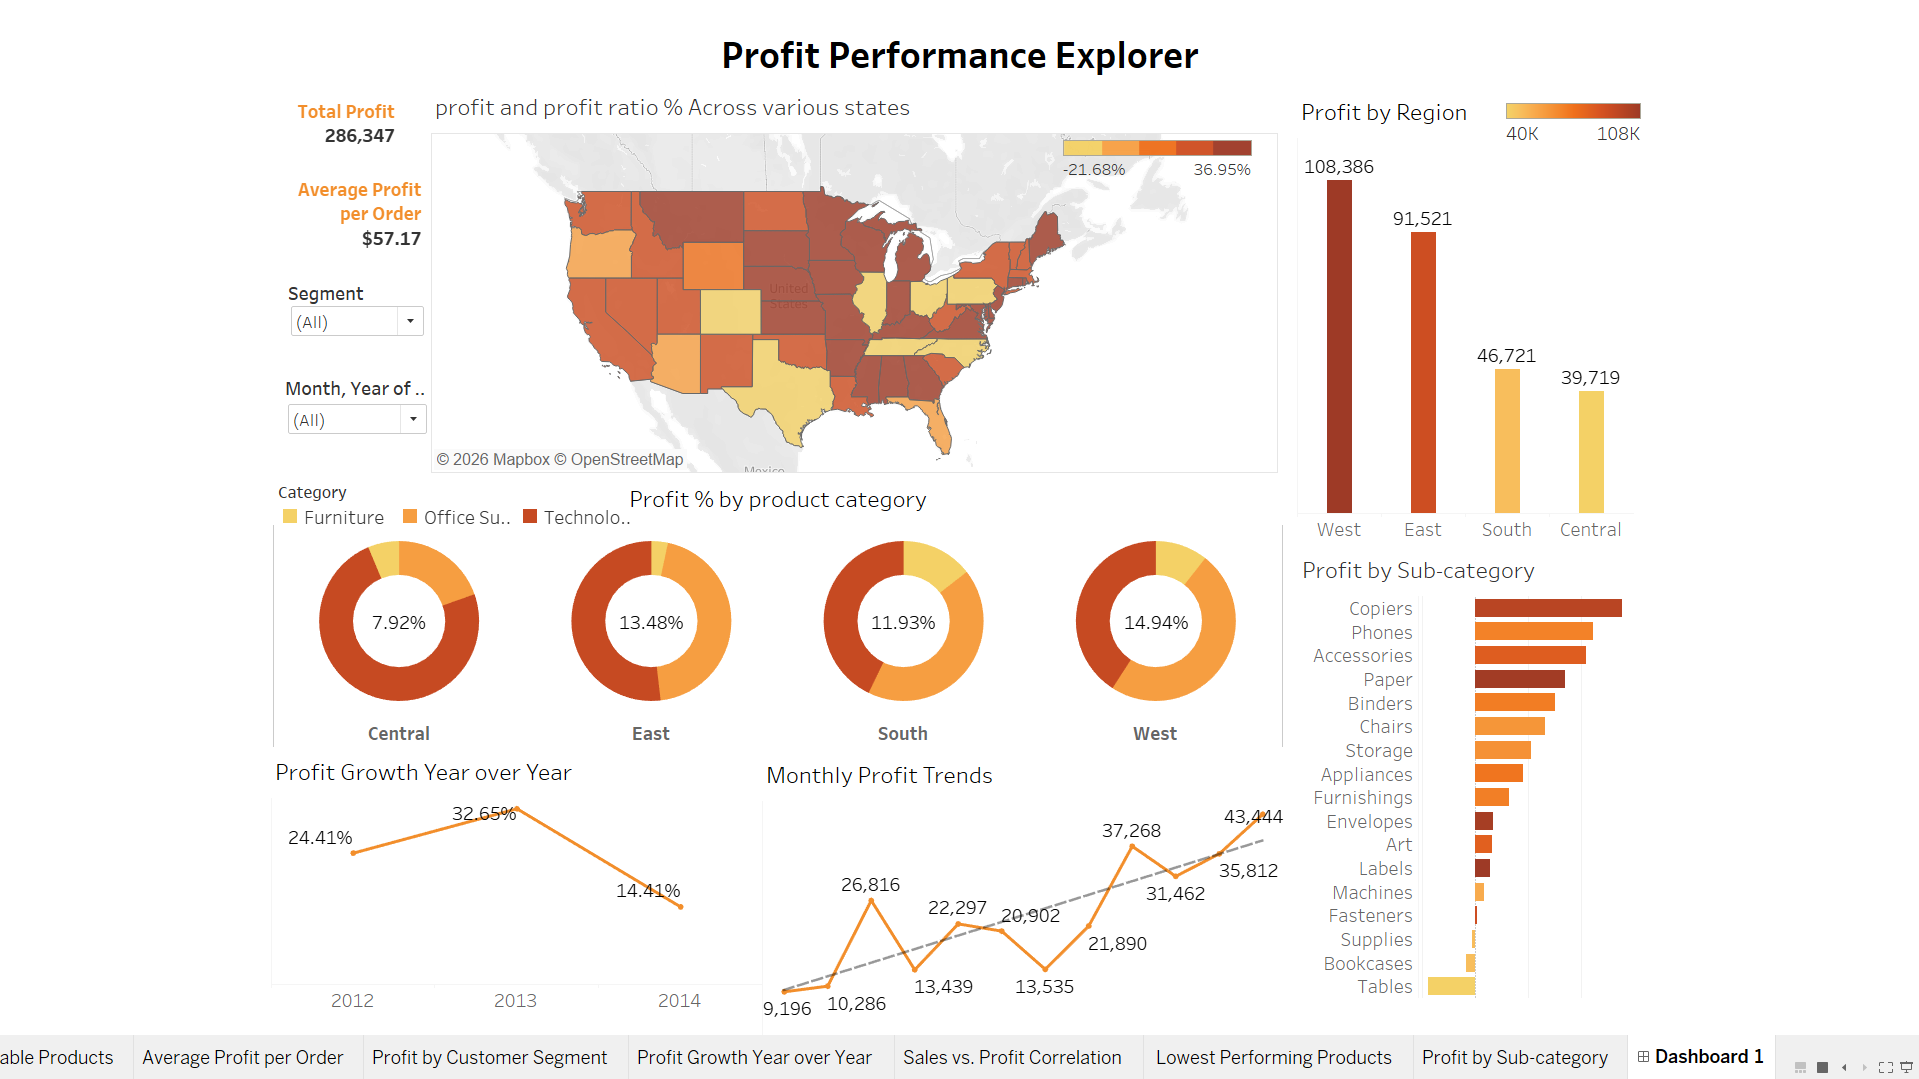

Layout of this report page (visuals, bound fields, positions):
{"tool":"tableau","page":{"name":"Dashboard 1","canvas":[1400,1000],"ordinal":0},"visuals":[{"type":"title","box":[8,8,1384,57]},{"type":"worksheet","title":"profit and profit ratio % Across various states","mark":"Automatic","box":[171,70,847,386]},{"type":"worksheet","title":"Profit by Region","mark":"Automatic","rows":["Profit"],"cols":["Region"],"box":[1037,75,337,450]},{"type":"worksheet","title":"Total profit","mark":"Automatic","box":[19.2,81,168,78]},{"type":"legend","title":"Profit by Region","param":"[federated.0scsd8k1lnhbb6143n81d1bk4msk].[sum:Profit:qk]","box":[1242,82,143,47]},{"type":"legend","title":"profit and profit ratio % Across various states","param":"[federated.0scsd8k1lnhbb6143n81d1bk4msk].[usr:Calculation_3756283578475462662:qk","box":[799,119,197,50]},{"type":"worksheet","title":"Average Profit per Order","mark":"Automatic","box":[9.6,132,154.9,129]},{"type":"filter","title":"Profit % by product category","param":"[federated.0scsd8k1lnhbb6143n81d1bk4msk].[none:Segment:nk]","box":[28,263,139.1,57]},{"type":"filter","title":"Profit % by product category","param":"[federated.0scsd8k1lnhbb6143n81d1bk4msk].[my:Order Date:ok]","box":[24.5,358,145.2,71]},{"type":"worksheet","title":"Profit % by product category","mark":"Pie","rows":["Calculation_3756283578473844737","Calculation_3756283578473889795"],"cols":["Region"],"box":[13,462,1010,269]},{"type":"legend","title":"Profit % by product category","param":"[federated.0scsd8k1lnhbb6143n81d1bk4msk].[none:Category:nk]","box":[18.4,464,484.8,82]},{"type":"worksheet","title":"Profit by Sub-category","mark":"Automatic","rows":["Sub-Category"],"cols":["Profit"],"box":[1038,533,334,448]},{"type":"worksheet","title":"Profit Growth Year over Year","mark":"Line","rows":["Calculation_3756283578525282312"],"cols":["Order Date"],"box":[11,735,491,261]}]}

Visuals, with their boxes on the page's 1400x1000 design canvas (x1, y1, x2, y2). These are canvas units, not pixel positions in the 1919x1079 screenshot, which may show the page scaled, cropped or inside an application window:
title: rect(8, 8, 1392, 65)
"profit and profit ratio % Across various states" worksheet: rect(171, 70, 1018, 456)
"Profit by Region" worksheet: rect(1037, 75, 1374, 525)
"Total profit" worksheet: rect(19, 81, 187, 159)
"Profit by Region" legend: rect(1242, 82, 1385, 129)
"profit and profit ratio % Across various states" legend: rect(799, 119, 996, 169)
"Average Profit per Order" worksheet: rect(10, 132, 164, 261)
"Profit % by product category" filter: rect(28, 263, 167, 320)
"Profit % by product category" filter: rect(24, 358, 170, 429)
"Profit % by product category" worksheet (Pie marks): rect(13, 462, 1023, 731)
"Profit % by product category" legend: rect(18, 464, 503, 546)
"Profit by Sub-category" worksheet: rect(1038, 533, 1372, 981)
"Profit Growth Year over Year" worksheet (Line marks): rect(11, 735, 502, 996)
